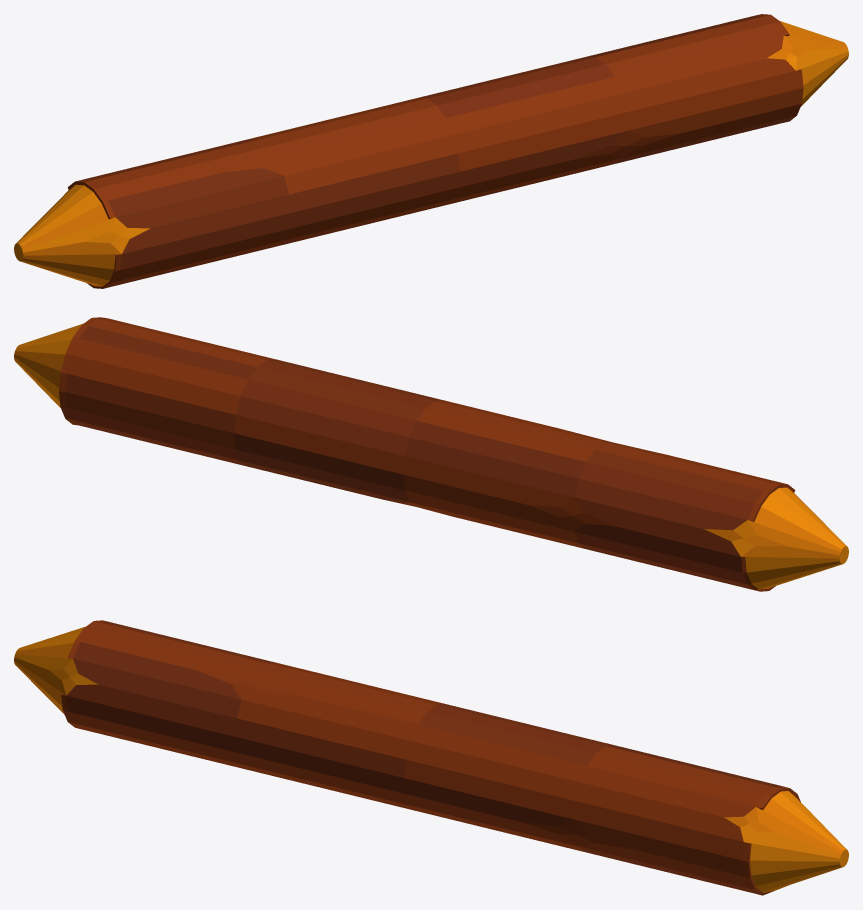
Rendered from Log_1.fbx.
The picture shows the model from 3 angles, top to bottom: view 1: azimuth 30°, elevation 25°; view 2: azimuth 150°, elevation 25°; view 3: azimuth 330°, elevation 25°; orthographic projection.
Parts seen in each view (by area): view 1: Circle.014; view 2: Circle.014; view 3: Circle.014.
Part boxes in pixels (x1,y1,x2,y2): Circle.014: (14,14,848,288); Circle.014: (14,317,848,591); Circle.014: (14,620,848,895).
Bounding box in the file's own units: 220 × 25.3 × 25.71.
